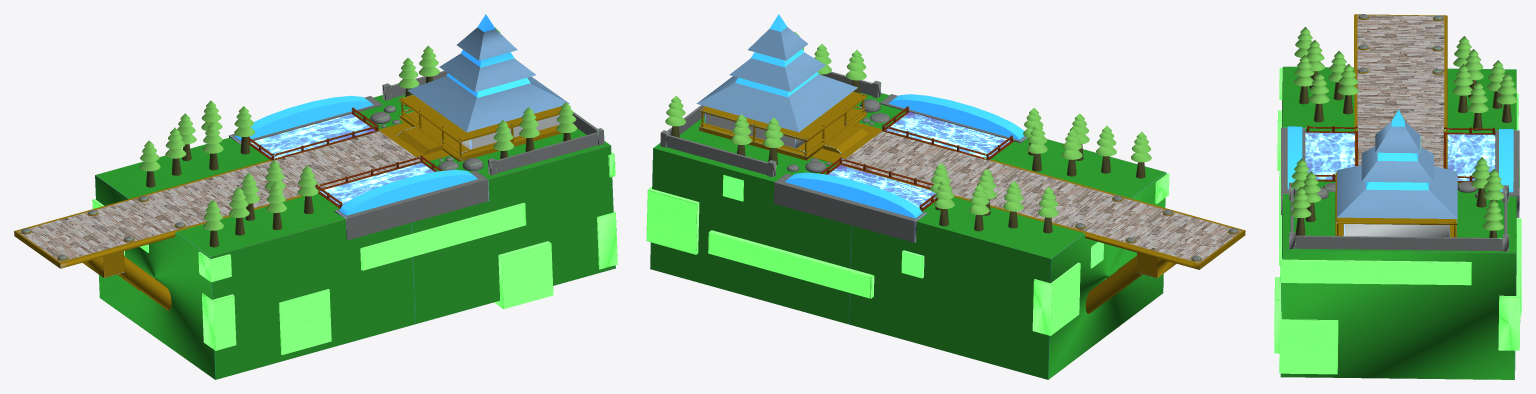
The model's file is relaxbox.glb.
The picture shows the model from 3 angles, left to right: view 1: azimuth 30°, elevation 25°; view 2: azimuth 150°, elevation 25°; view 3: azimuth 270°, elevation 25°; orthographic projection.
Parts seen in each view (by area): view 1: Parcel_545_Building(Clone); view 2: Parcel_545_Building(Clone); view 3: Parcel_545_Building(Clone).
Boxes of the visible parts, x1,y1,x2,y2 form: Parcel_545_Building(Clone): (14,14,617,379); Parcel_545_Building(Clone): (646,14,1245,379); Parcel_545_Building(Clone): (1274,14,1521,379).
Bounding box in the file's own units: 25.14 × 11.34 × 10.22.
Materials: 1 (1 with a texture image).
